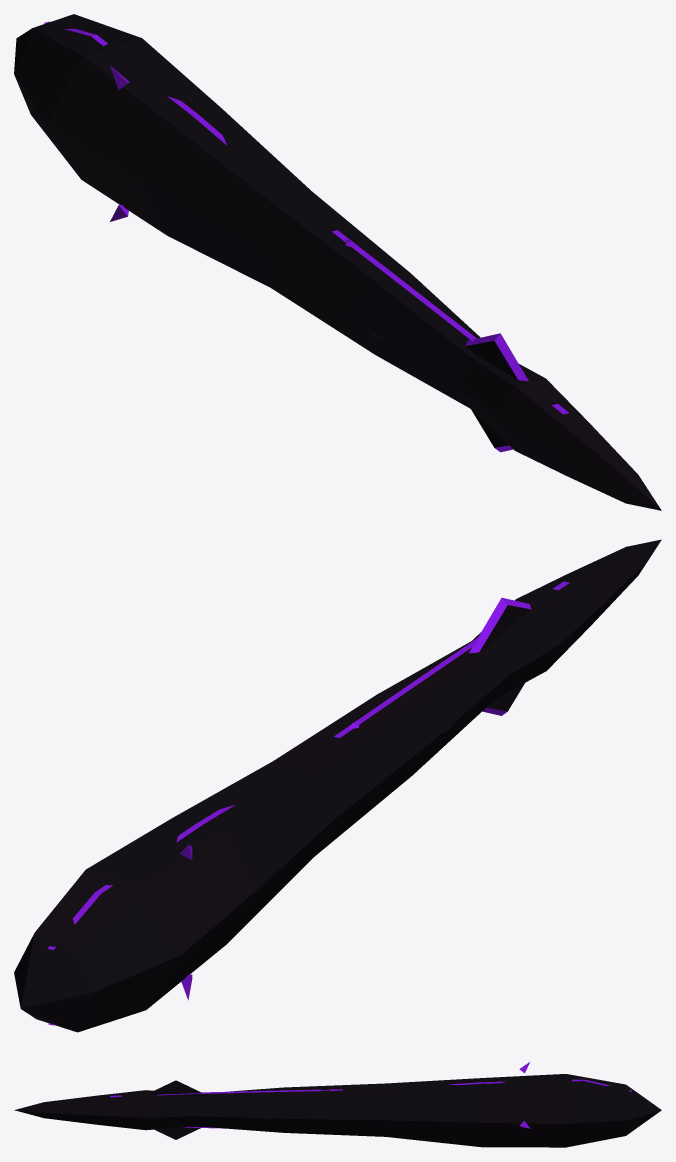
File: ScorpionNeedle.obj
3 renders of one model, top to bottom at view 1: azimuth 30°, elevation 25°; view 2: azimuth 150°, elevation 25°; view 3: azimuth 270°, elevation 25°, orthographic. The views are drawn at different scales.
Visible parts, largest first — view 1: GiantScorpionStinger; view 2: GiantScorpionStinger; view 3: GiantScorpionStinger.
Part boxes in pixels (x1,y1,x2,y2): GiantScorpionStinger: (14, 14, 661, 510); GiantScorpionStinger: (14, 539, 661, 1032); GiantScorpionStinger: (14, 1062, 661, 1147).
Size of the model in its own units: 0.1375 by 0.1453 by 1.08.
